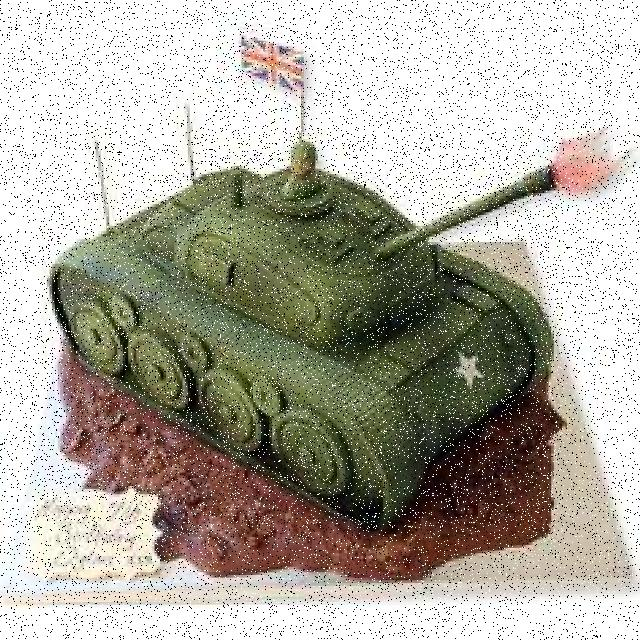MIL_MBT: (38, 133, 565, 527)
